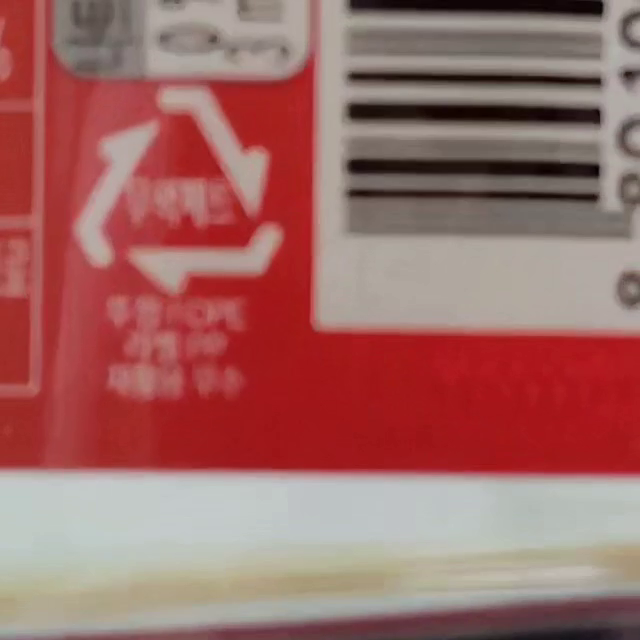ColorlessPet: (72, 86, 280, 294)
